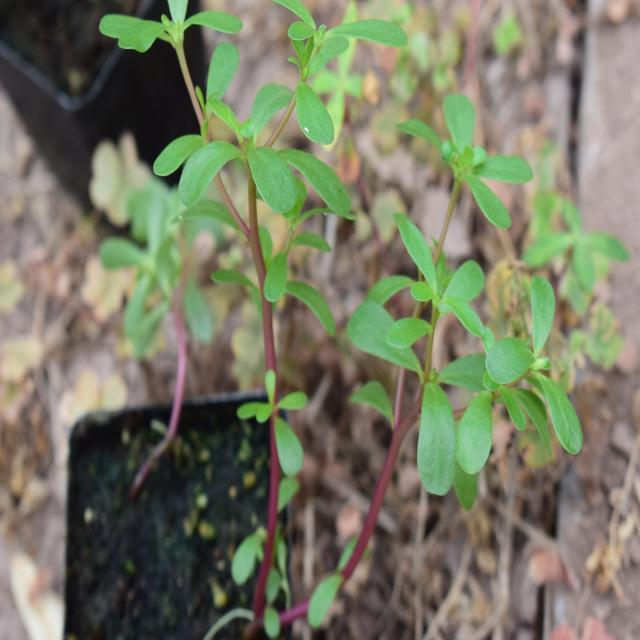purslane: (96, 0, 615, 522)
